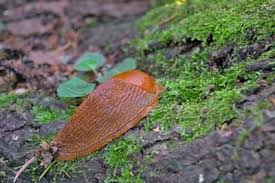slug: (51, 69, 159, 160)
